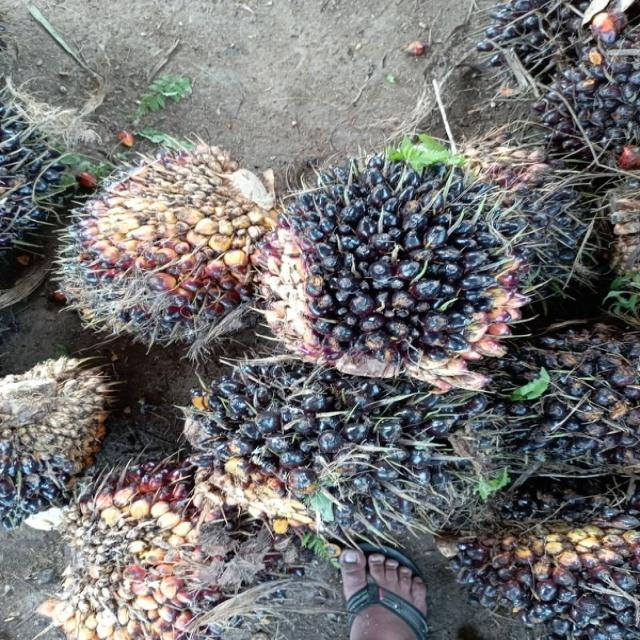fraksi 1: (39, 102, 292, 380)
